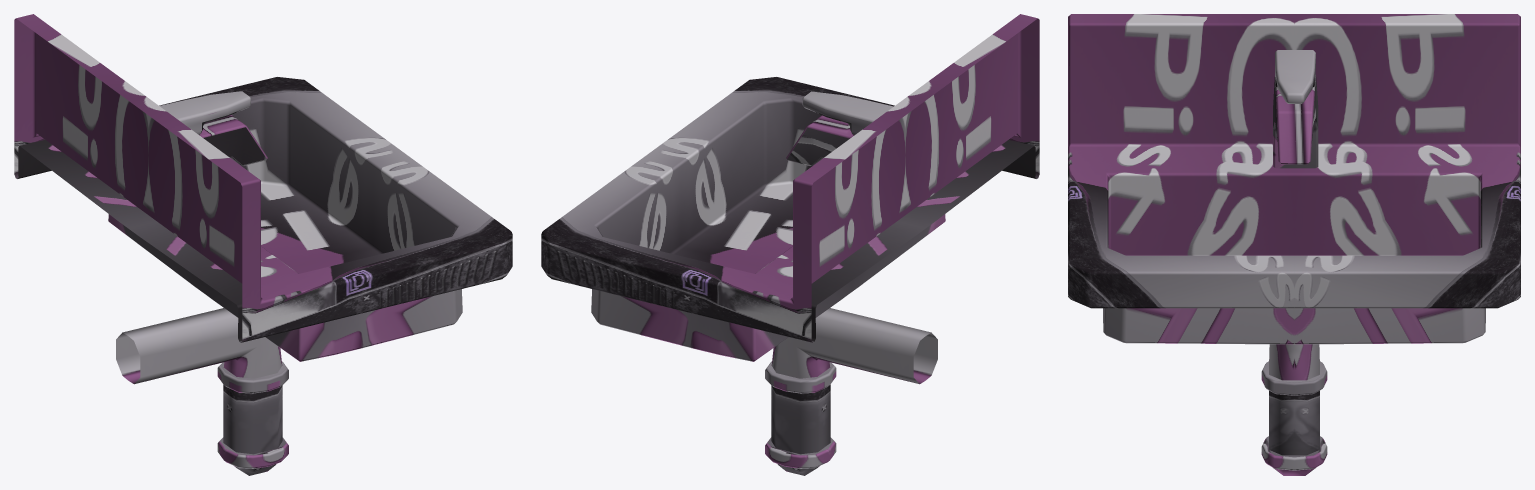
File: SM_PrisonCellSink.fbx
The picture shows the model from 3 angles, left to right: view 1: azimuth 30°, elevation 25°; view 2: azimuth 150°, elevation 25°; view 3: azimuth 270°, elevation 25°; orthographic projection.
Parts seen in each view (by area): view 1: Sink base - backup, Sink pipe, Sink valve; view 2: Sink base - backup, Sink pipe, Sink valve; view 3: Sink base - backup, Sink pipe, Sink valve.
Part boxes in pixels (<box>): Sink base - backup: <box>14,14,512,361</box>; Sink pipe: <box>116,308,288,475</box>; Sink valve: <box>160,91,267,165</box>; Sink base - backup: <box>541,14,1039,361</box>; Sink pipe: <box>765,308,937,475</box>; Sink valve: <box>786,91,893,165</box>; Sink base - backup: <box>1068,14,1520,344</box>; Sink pipe: <box>1261,344,1327,475</box>; Sink valve: <box>1273,50,1318,168</box>.
Size of the model in its own units: 38.54 by 54.07 by 52.31.
